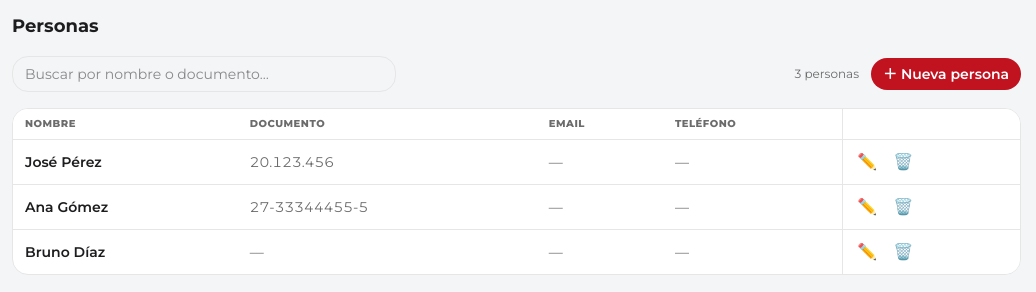
Test: PersonasLista — buscar › sin acentos ni mayúsculas: «perez» encuentra a «José Pérez»
The image size is (1036, 292).
In the search field: x=204, y=74 [12, 56, 396, 92], type "perez"
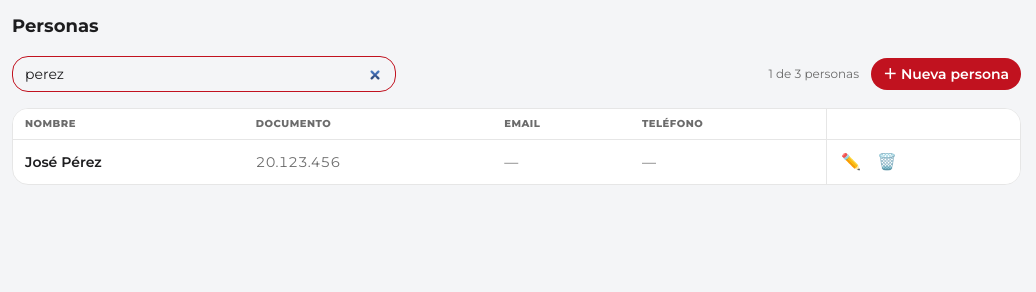
Expected: the link "José Pérez" is shown, [25, 153, 102, 171]
Result: the link "Ana Gómez" is gone
